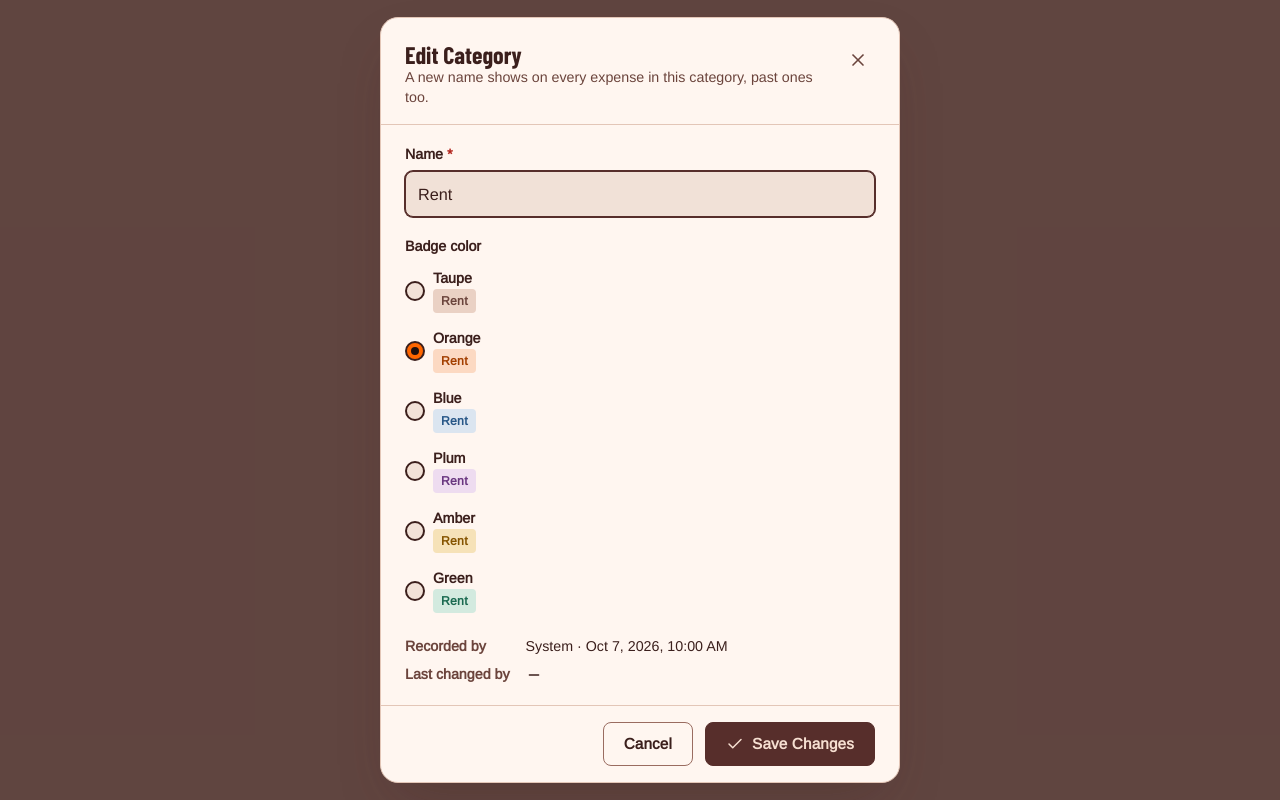
Test: S2 edit mode › shows the duplicate-name message under Name on a 400
Replace the text in the field labelled "Name *" with "Utilities" at coordinates (640, 194), box x1=406 y1=172 x2=874 y2=216
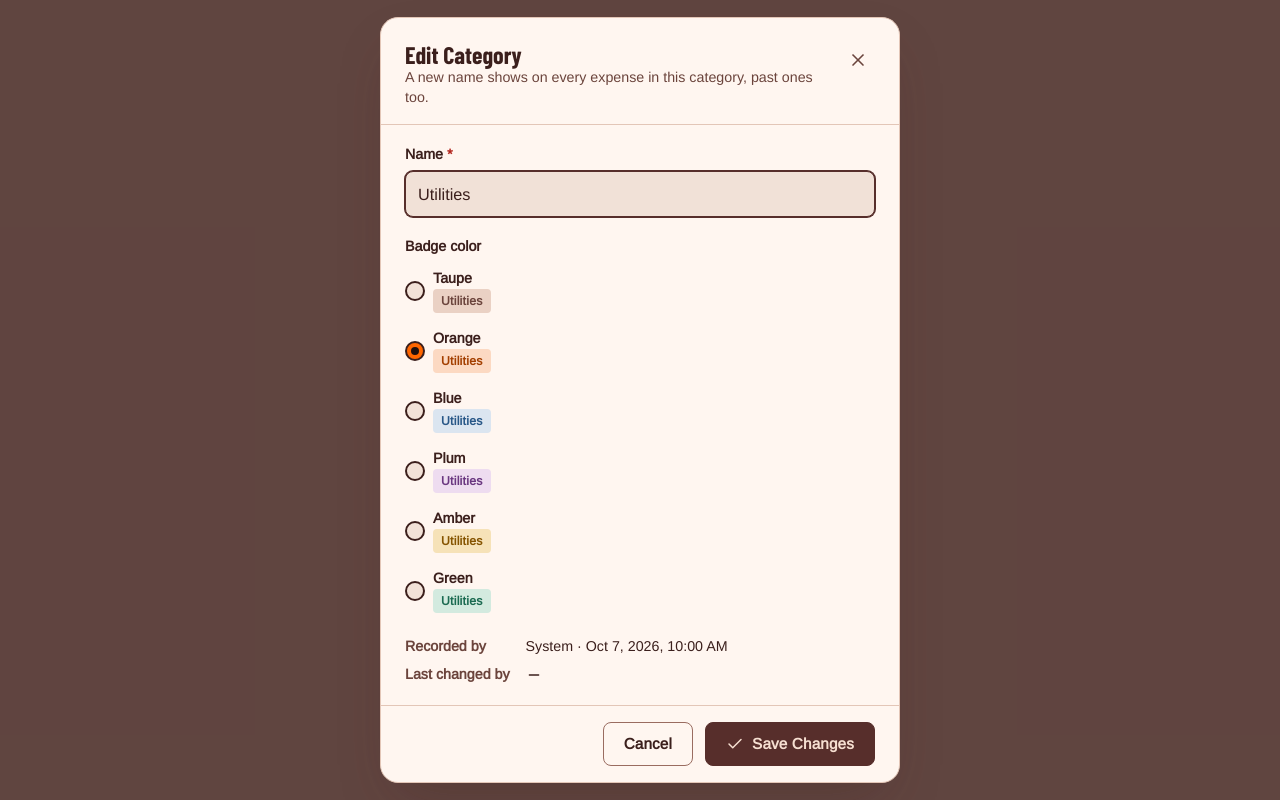
Click the button "Save Changes" at coordinates (790, 744), box x1=705 y1=722 x2=875 y2=766
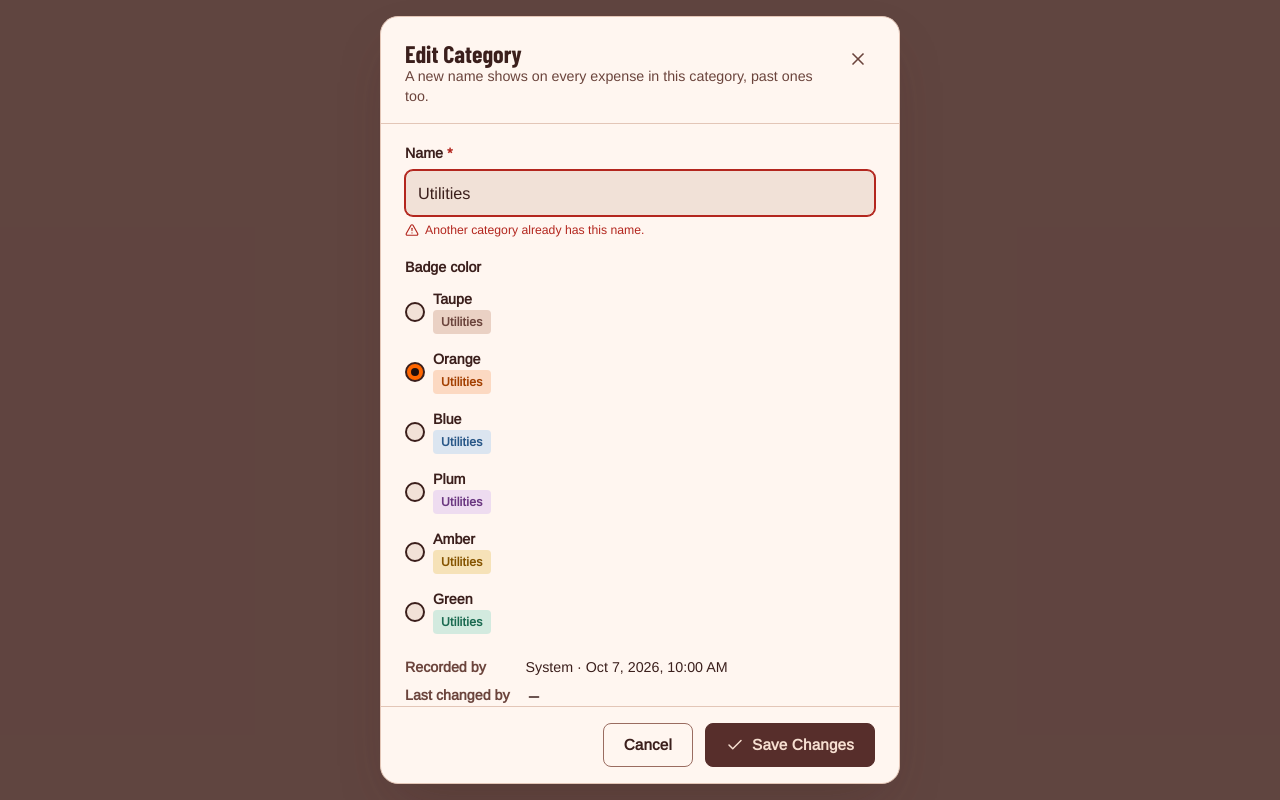
Result: the text "Another category already has this name." is shown at x1=405 y1=223 x2=644 y2=237
